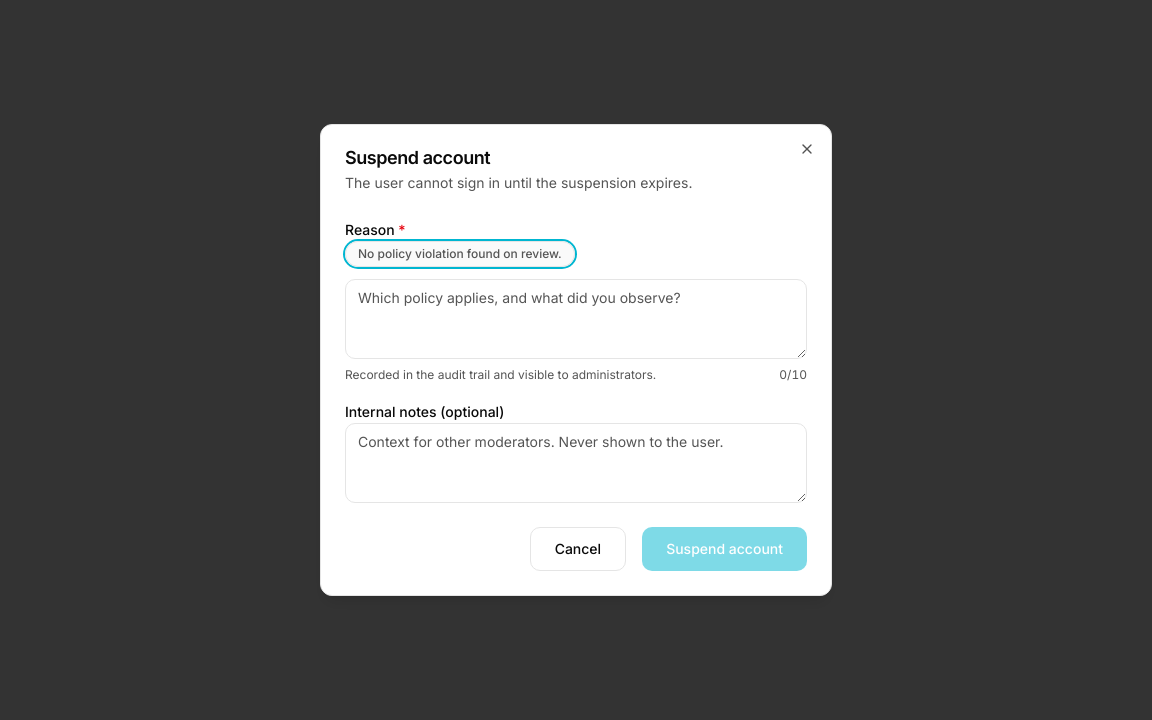
Test: ModerationActionDialog › fills the reason from a preset, still editable afterwards
Click the button "No policy violation found on review.": (460, 254) x1=345 y1=241 x2=575 y2=267
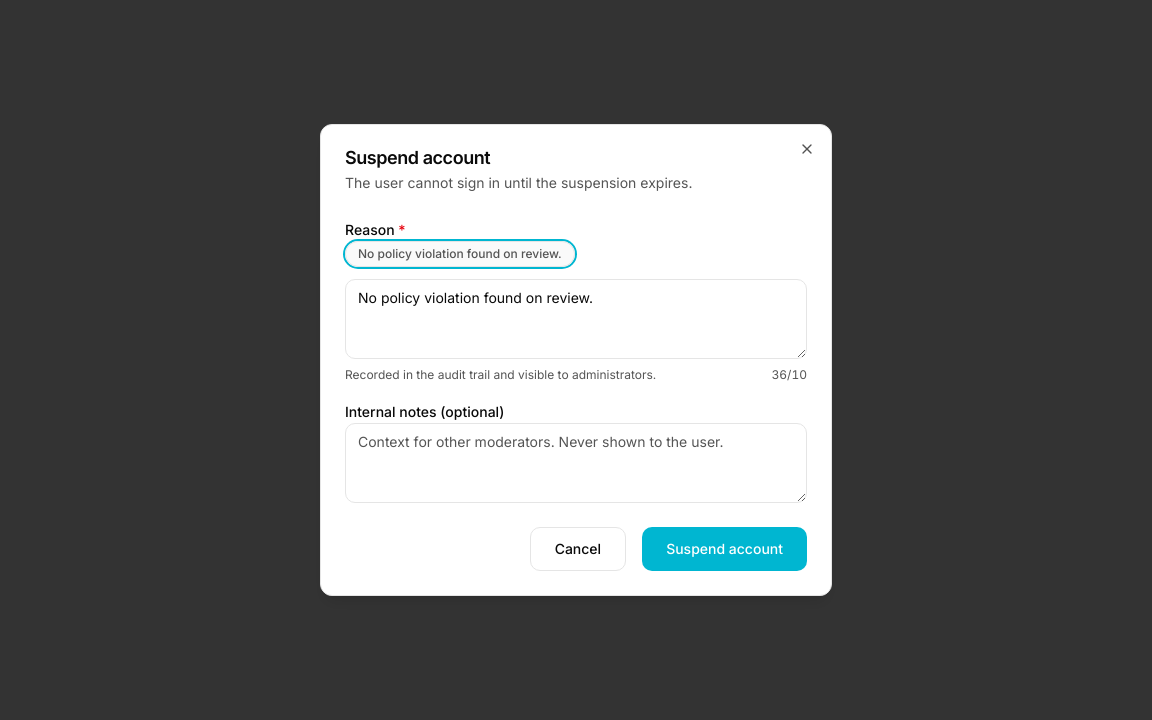
Now the text box labelled "Reason *" holds "No policy violation found on review."
In the text box labelled "Reason *": (576, 319) x1=345 y1=279 x2=807 y2=359, type " Confirmed with a second moderator."
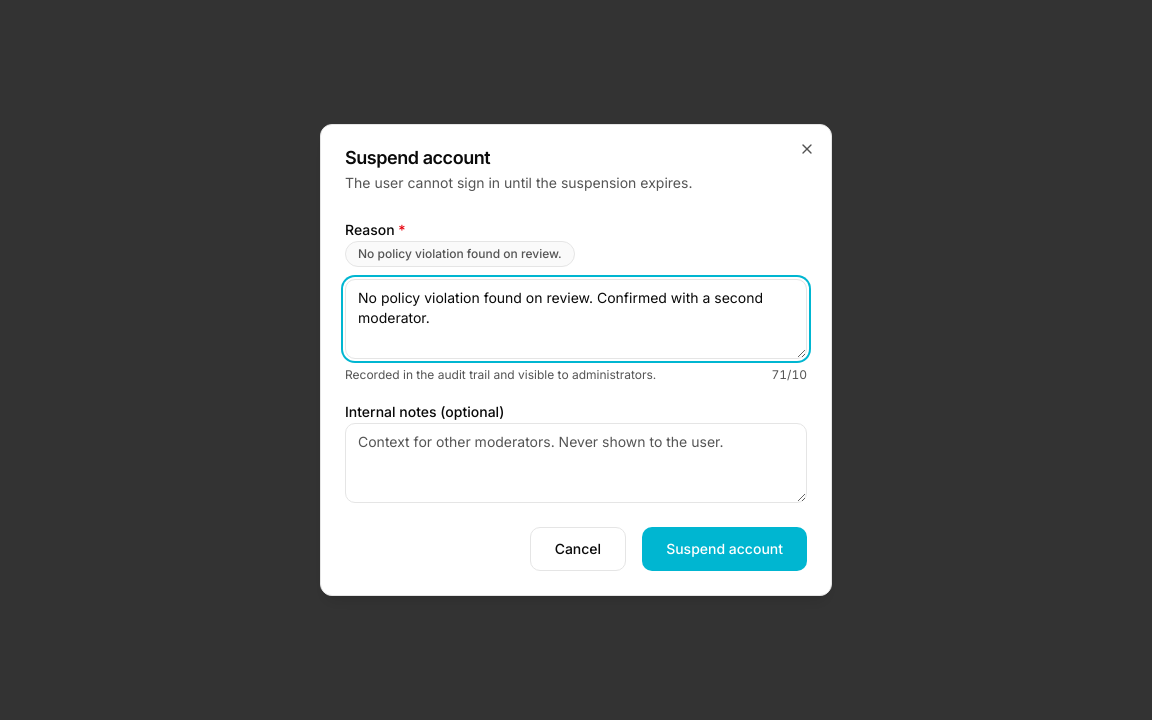
Now the text box labelled "Reason *" holds "No policy violation found on review. Confirmed with a second moderator.", box x1=345 y1=279 x2=807 y2=359
